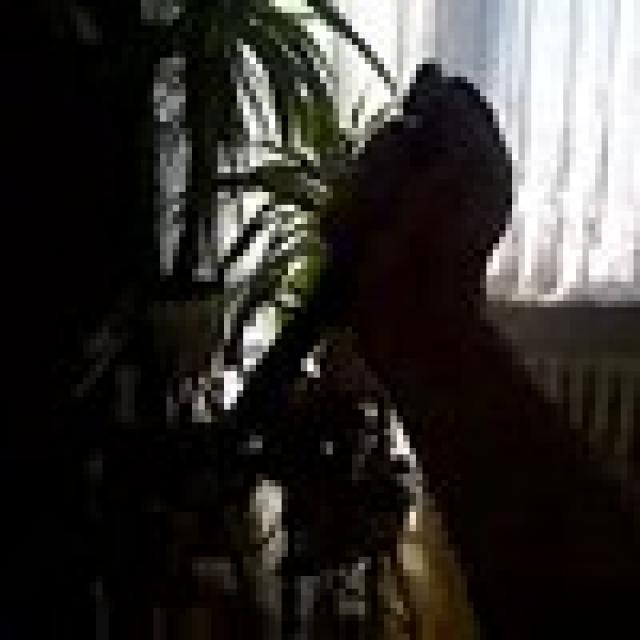Knife_Handle: (173, 61, 512, 496)
